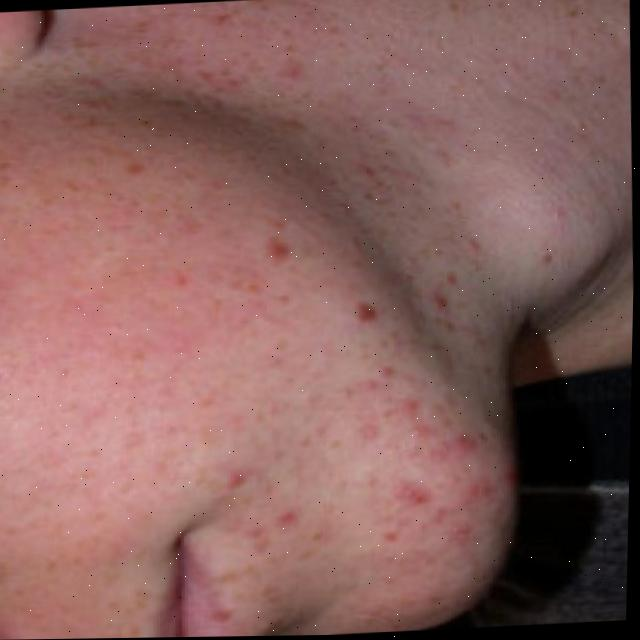Acne: (15, 0, 518, 602)
